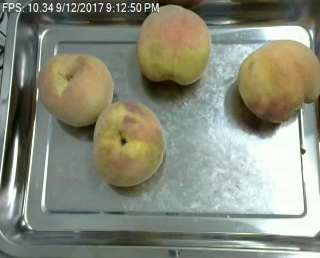Peach: (236, 39, 317, 123), (93, 99, 165, 186), (134, 4, 209, 84), (36, 50, 114, 126)
